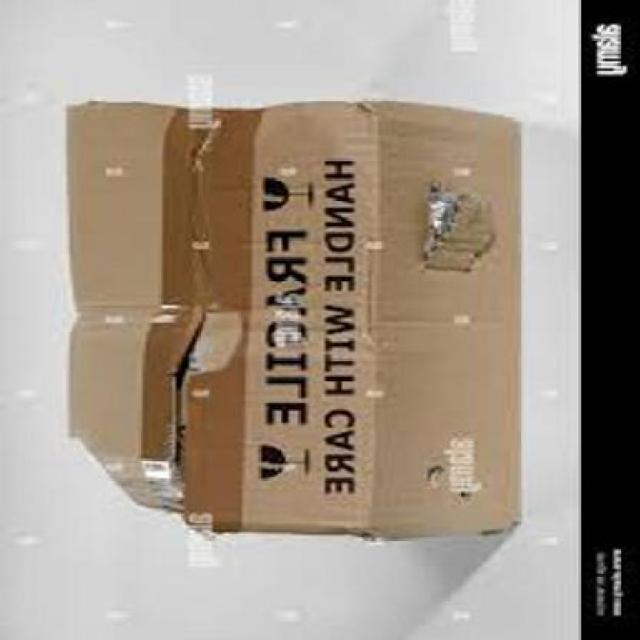defect: (57, 86, 529, 552)
